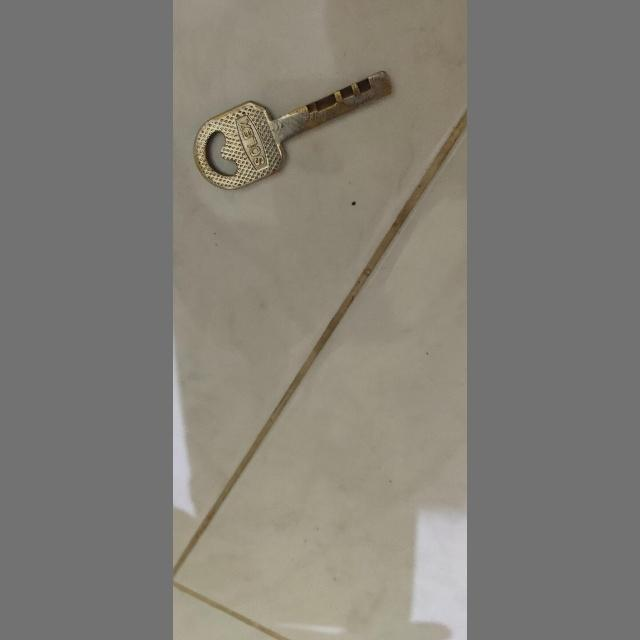Keys: (196, 55, 404, 203)
